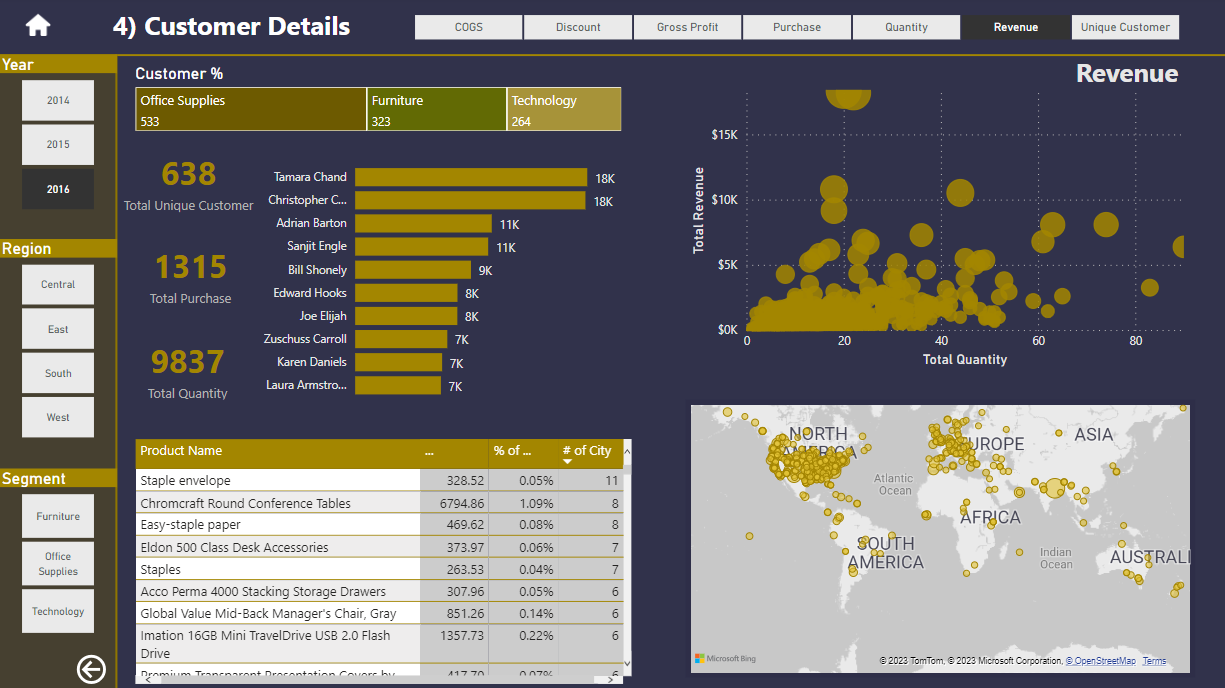

Layout of this report page (visuals, bound fields, positions):
{"tool":"powerbi","page":{"name":"4) Customer Details","canvas":[1280,720],"ordinal":4},"visuals":[{"type":"shape","title":"Background Shape","box":[0,0,1280,720.1],"z":0},{"type":"shape","title":"Rectangle Slicer BG","box":[0,61.3,125.2,657.9],"z":0,"group":"g1"},{"type":"slicer","title":"Metrics","fields":{"Values":["Switch.Metrics"]},"box":[408.4,12.4,843.4,40],"z":1000},{"type":"slicer","title":"Region","fields":{"Values":["Dimension Table_Location.Region"]},"box":[0,252.5,124.8,213.2],"z":1000,"group":"g1"},{"type":"slicer","title":"Year","fields":{"Values":["Calendar Table.Date.Variation.Date Hierarchy.Year"]},"box":[0,60.9,124.8,168],"z":2000,"group":"g1"},{"type":"shape","box":[0,52.4,1280.2,16.9],"z":2000},{"type":"shape","box":[119.9,61.3,8,658.7],"z":3000},{"type":"slicer","title":"Segment","fields":{"Values":["Dimension Table_Product.Product Category"]},"box":[0,490.2,124.8,177.8],"z":3000,"group":"g1"},{"type":"textbox","box":[115.4,6.2,285.9,55],"z":4000},{"type":"actionButton","title":"Hide Button","box":[77.6,679.8,42.2,40.3],"z":4000,"group":"g1"},{"type":"card","fields":{"Values":["Core Measures.Total Purchase"]},"box":[125.5,252.9,148.8,73.9],"z":5000},{"type":"card","fields":{"Values":["Core Measures.Total Quantity"]},"box":[123.5,351.1,148.8,73.9],"z":6000},{"type":"card","fields":{"Values":["Core Measures.Total Unique Customer"]},"box":[122.6,155.6,150.8,73.9],"z":7000},{"type":"clusteredBarChart","fields":{"Category":["Dimension Table_Customer.Customer Name"],"Y":["Visualization Measures.Switch Metrics"]},"box":[258.3,155.4,399.5,272.6],"z":8000},{"type":"card","fields":{"Values":["Switch.Metrics"]},"box":[1064.9,60.9,215.1,37.3],"z":9000},{"type":"pivotTable","title":"Matrix","fields":{"Values":["Visualization Measures.Switch Metrics","Divide(Visualization Measures.Switch Metrics, ScopedEval(Visualization Measures.Switch Metrics, []))","Dimension Table_Location.City"],"Rows":["Dimension Table_Product.Product Name"]},"box":[139.1,455.2,525.2,264.6],"z":10000},{"type":"scatterChart","fields":{"X":["Core Measures.Total Quantity"],"Category":["Dimension Table_Customer.Customer Name"],"Size":["Visualization Measures.Switch Metrics"],"Y":["Core Measures.Total Revenue After Discount"]},"box":[714.7,83.5,529.1,305.4],"z":11000},{"type":"group","id":"g1","title":"Slicer Pane","box":[0,60.9,125.2,659.2],"z":15000},{"type":"treemap","title":"Customer %","fields":{"Group":["Dimension Table_Product.Product Category"],"Values":["Core Measures.Total Unique Customer"]},"box":[139.1,70,514.5,74.9],"z":16000},{"type":"map","fields":{"Size":["Visualization Measures.Switch Metrics"],"Category":["Dimension Table_Customer.Customer Name"]},"box":[714.7,418.2,529.1,288.5],"z":17000},{"type":"image","box":[18.6,9.8,47.9,40.8],"z":18001}]}

Visuals, with their boxes in screenshot pixels (x1, y1, x2, y2), scaled from the page's 1280x720 canvas onto the 1225x688 screenshot:
"Background Shape" shape: left=0, top=0, right=1224, bottom=687
"Rectangle Slicer BG" shape: left=0, top=59, right=120, bottom=687
"Metrics" slicer: left=391, top=12, right=1198, bottom=50
"Region" slicer: left=0, top=241, right=119, bottom=445
"Year" slicer: left=0, top=58, right=119, bottom=219
shape: left=0, top=50, right=1224, bottom=66
shape: left=115, top=59, right=122, bottom=687
"Segment" slicer: left=0, top=468, right=119, bottom=638
textbox: left=110, top=6, right=384, bottom=58
"Hide Button" actionButton: left=74, top=650, right=115, bottom=687
card - Core Measures.Total Purchase: left=120, top=242, right=263, bottom=312
card - Core Measures.Total Quantity: left=118, top=335, right=261, bottom=406
card - Core Measures.Total Unique Customer: left=117, top=149, right=262, bottom=219
clusteredBarChart - Dimension Table_Customer.Customer Name x Visualization Measures.Switch Metrics: left=247, top=148, right=630, bottom=409
card - Switch.Metrics: left=1019, top=58, right=1224, bottom=94
"Matrix" pivotTable: left=133, top=435, right=636, bottom=687
scatterChart - Core Measures.Total Quantity x Dimension Table_Customer.Customer Name: left=684, top=80, right=1190, bottom=372
"Slicer Pane" group: left=0, top=58, right=120, bottom=687
"Customer %" treemap: left=133, top=67, right=626, bottom=138
map - Visualization Measures.Switch Metrics x Dimension Table_Customer.Customer Name: left=684, top=400, right=1190, bottom=675
image: left=18, top=9, right=64, bottom=48
